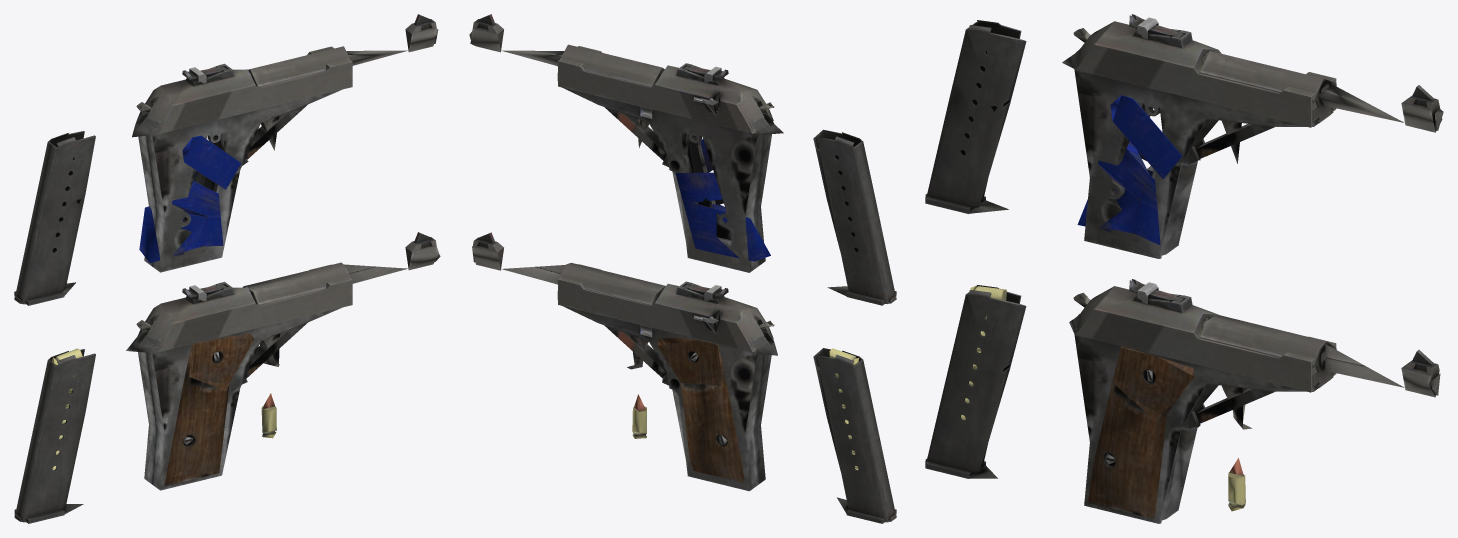
Rendered from service_pistol.glb.
3 views of the same model, side by side, from view 1: azimuth 30°, elevation 25°; view 2: azimuth 150°, elevation 25°; view 3: azimuth 330°, elevation 25° (orthographic). The views are drawn at different scales.
Parts seen in each view (by area): view 1: service_pistol_pistol_a, service_pistol_pistol_b, service_pistol_magazine_loaded, service_pistol_magazine_empty, service_pistol_slide_b, service_pistol_slide_a, service_pistol_bullet; view 2: service_pistol_pistol_a, service_pistol_pistol_b, service_pistol_magazine_empty, service_pistol_magazine_loaded, service_pistol_slide_b, service_pistol_slide_a, service_pistol_bullet; view 3: service_pistol_pistol_a, service_pistol_pistol_b, service_pistol_magazine_empty, service_pistol_magazine_loaded, service_pistol_slide_b, service_pistol_slide_a, service_pistol_bullet.
Part boxes in pixels (bbox=[...]): service_pistol_pistol_a: bbox=[126, 232, 440, 490]; service_pistol_pistol_b: bbox=[132, 14, 438, 272]; service_pistol_magazine_loaded: bbox=[14, 348, 95, 523]; service_pistol_magazine_empty: bbox=[14, 131, 95, 305]; service_pistol_slide_b: bbox=[142, 46, 352, 134]; service_pistol_slide_a: bbox=[142, 264, 352, 352]; service_pistol_bullet: bbox=[261, 393, 276, 438]; service_pistol_pistol_a: bbox=[472, 232, 777, 491]; service_pistol_pistol_b: bbox=[469, 14, 783, 272]; service_pistol_magazine_empty: bbox=[813, 129, 896, 305]; service_pistol_magazine_loaded: bbox=[813, 348, 896, 523]; service_pistol_slide_b: bbox=[557, 46, 773, 133]; service_pistol_slide_a: bbox=[557, 264, 773, 351]; service_pistol_bullet: bbox=[632, 394, 646, 438]; service_pistol_pistol_a: bbox=[1069, 313, 1440, 523]; service_pistol_pistol_b: bbox=[1062, 48, 1443, 258]; service_pistol_magazine_empty: bbox=[925, 20, 1026, 213]; service_pistol_magazine_loaded: bbox=[925, 285, 1026, 478]; service_pistol_slide_b: bbox=[1074, 14, 1336, 127]; service_pistol_slide_a: bbox=[1074, 279, 1336, 392]; service_pistol_bullet: bbox=[1228, 458, 1245, 511].
Size of the model in its own units: 0.3016 by 0.2807 by 0.0313.
Materials: 1 (1 with a texture image).
